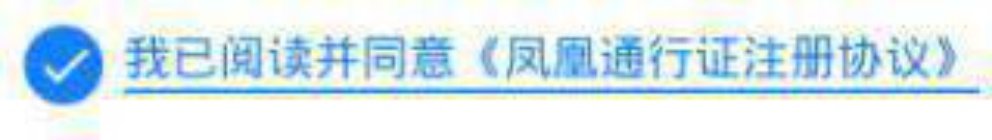CheckBox: (1, 1, 991, 139)
